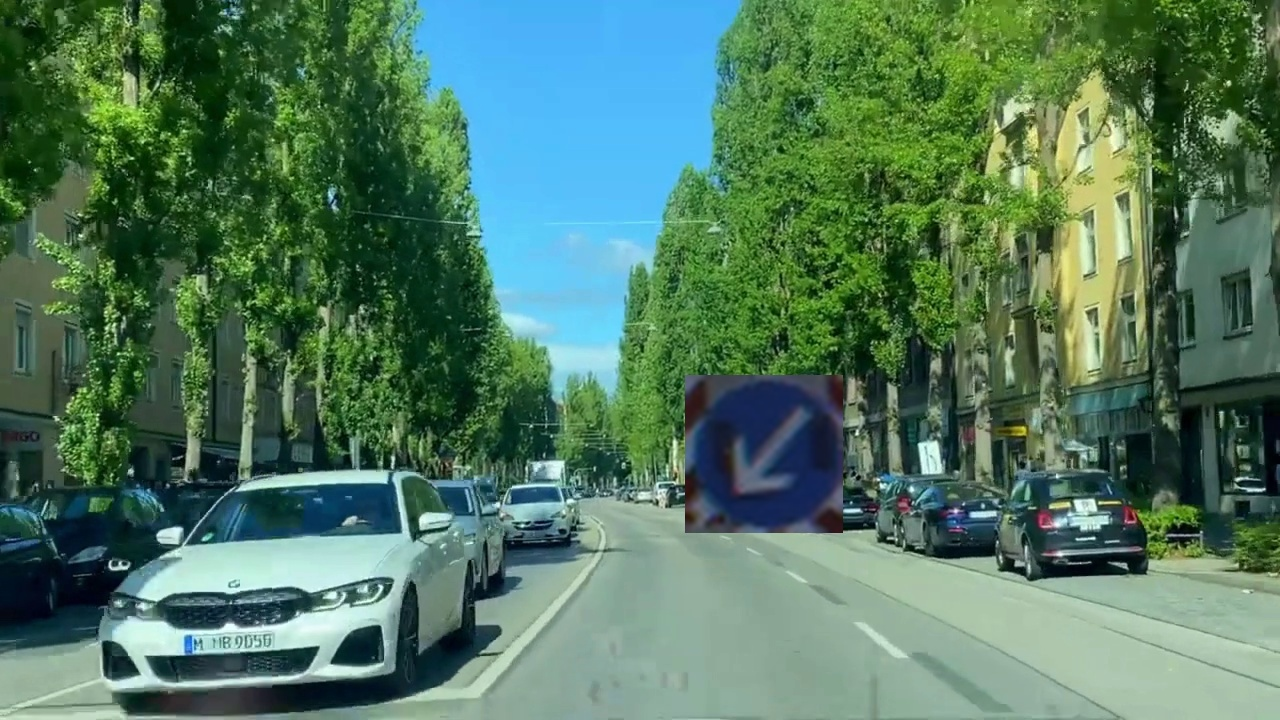Keep left: (685, 375, 843, 533)
